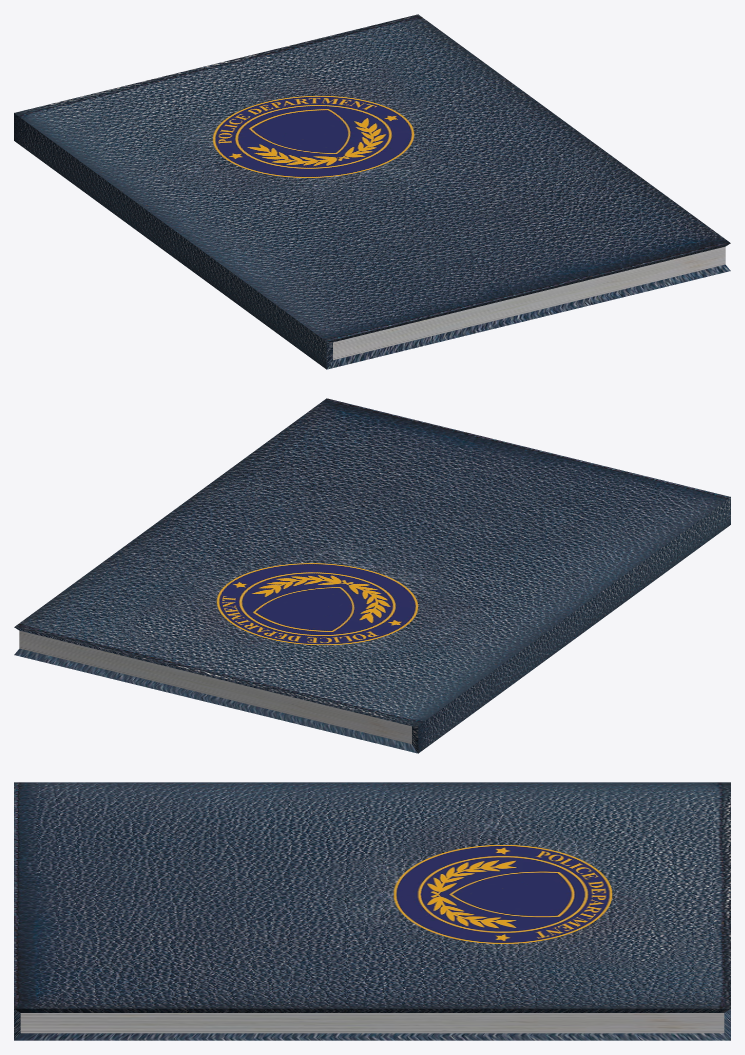
File: Police book.FBX
3 views of the same model, one above another, from view 1: azimuth 30°, elevation 25°; view 2: azimuth 150°, elevation 25°; view 3: azimuth 270°, elevation 25° (orthographic). The views are drawn at different scales.
Parts seen in each view (by area): view 1: police book; view 2: police book; view 3: police book.
Boxes of the visible parts, x1,y1,x2,y2 form: police book: (14, 14, 730, 369); police book: (14, 398, 730, 753); police book: (14, 782, 730, 1040).
Bounding box in the file's own units: 24.27 × 1.6 × 32.52.
Materials: 1 (1 with a texture image).
